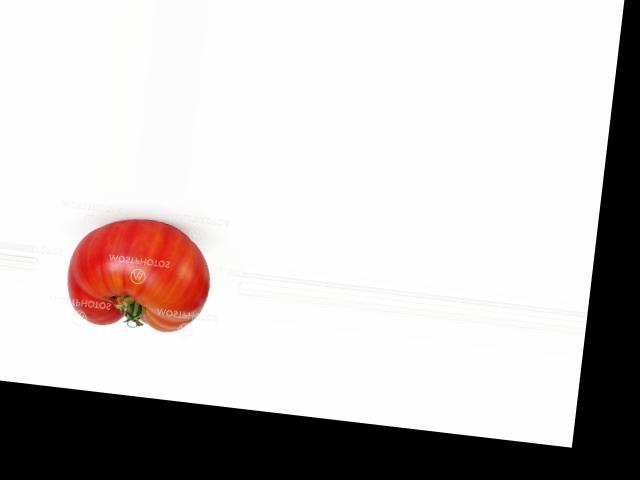tomato: (63, 211, 216, 337)
